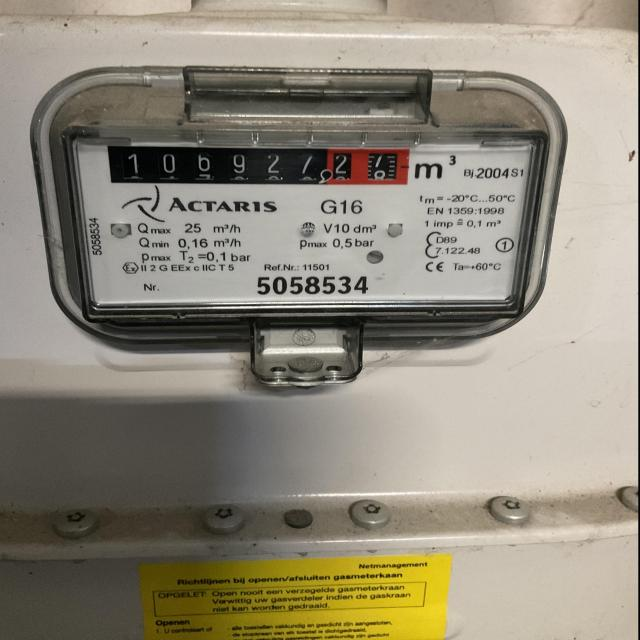gaz_meter: (66, 131, 541, 311)
indication: (105, 147, 408, 184)
